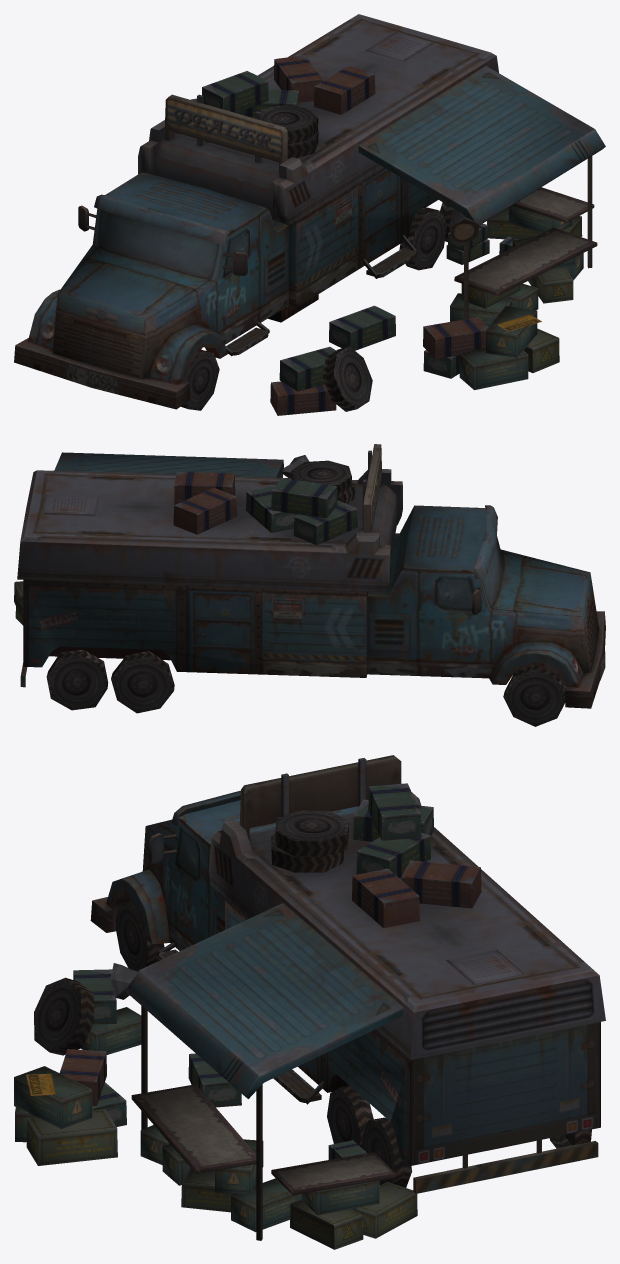
File: WMDealer1.FBX
The picture shows the model from 3 angles, top to bottom: view 1: azimuth 30°, elevation 25°; view 2: azimuth 150°, elevation 25°; view 3: azimuth 270°, elevation 25°; orthographic projection. The views are drawn at different scales.
Visible parts, largest first — view 1: WMDealer1; view 2: WMDealer1; view 3: WMDealer1.
Boxes of the visible parts, x1,y1,x2,y2 form: WMDealer1: (14, 14, 605, 415); WMDealer1: (14, 444, 605, 726); WMDealer1: (14, 755, 605, 1249).
Bounding box in the file's own units: 1.1 × 0.4112 × 0.7996.
1 material, 1 textured.
